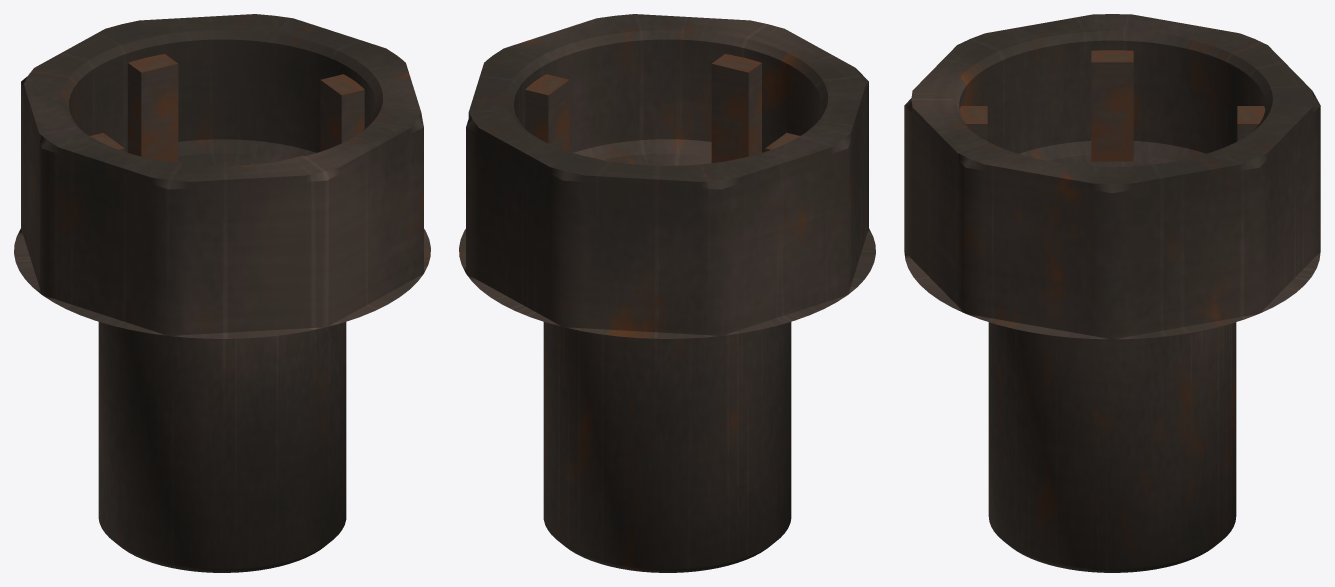
File: SM_CasseBit_6_1_2po.glb
3 views of the same model, side by side, from view 1: azimuth 30°, elevation 25°; view 2: azimuth 150°, elevation 25°; view 3: azimuth 270°, elevation 25° (orthographic).
Parts seen in each view (by area): view 1: CasseBit_6_1_2po, CasseBit_6_1_2po_Ergots; view 2: CasseBit_6_1_2po, CasseBit_6_1_2po_Ergots; view 3: CasseBit_6_1_2po, CasseBit_6_1_2po_Ergots.
Boxes of the visible parts, box(x1,y1,x2,y2) form: CasseBit_6_1_2po: box(14, 14, 430, 572); CasseBit_6_1_2po_Ergots: box(90, 54, 364, 162); CasseBit_6_1_2po: box(459, 14, 875, 572); CasseBit_6_1_2po_Ergots: box(525, 54, 799, 162); CasseBit_6_1_2po: box(904, 14, 1320, 572); CasseBit_6_1_2po_Ergots: box(959, 50, 1265, 161).
Size of the model in its own units: 0.235 by 0.265 by 0.235.
Materials: 2 (2 with a texture image).
